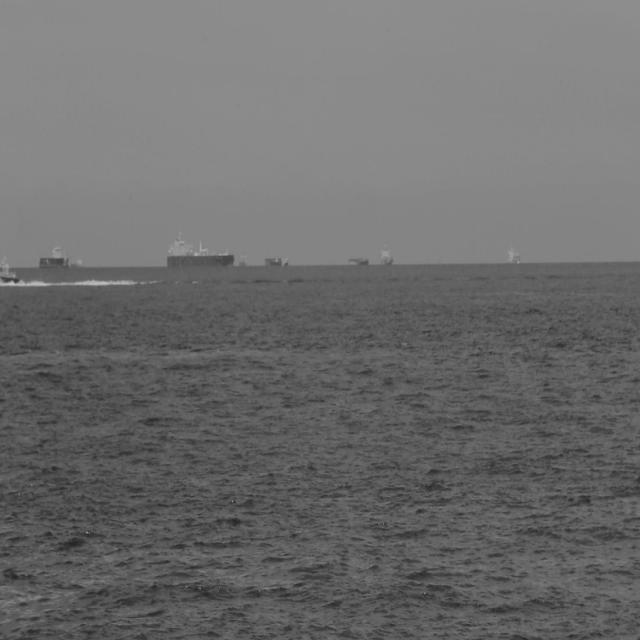ship: (166, 230, 234, 271), (37, 242, 70, 270), (0, 253, 20, 288), (505, 242, 521, 267), (379, 242, 394, 268), (346, 255, 369, 268), (264, 255, 282, 267), (282, 255, 290, 268)
